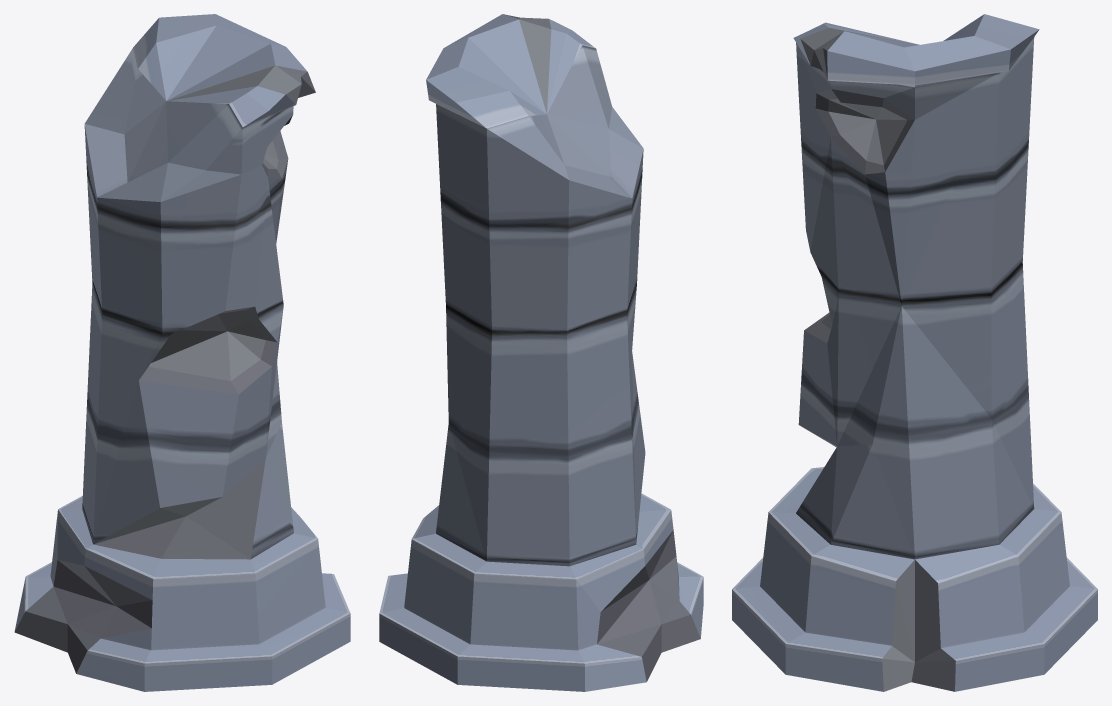
The model's file is Broken_Pillar_Center_Round.FBX.
The picture shows the model from 3 angles, left to right: view 1: azimuth 30°, elevation 25°; view 2: azimuth 150°, elevation 25°; view 3: azimuth 270°, elevation 25°; orthographic projection. The views are drawn at different scales.
Parts seen in each view (by area): view 1: Broken_Pillar_Center_Round; view 2: Broken_Pillar_Center_Round; view 3: Broken_Pillar_Center_Round.
Boxes of the visible parts, x1,y1,x2,y2 form: Broken_Pillar_Center_Round: [14, 14, 350, 691]; Broken_Pillar_Center_Round: [379, 14, 703, 691]; Broken_Pillar_Center_Round: [732, 14, 1097, 691].
Size of the model in its own units: 34.99 by 69.1 by 37.07.
